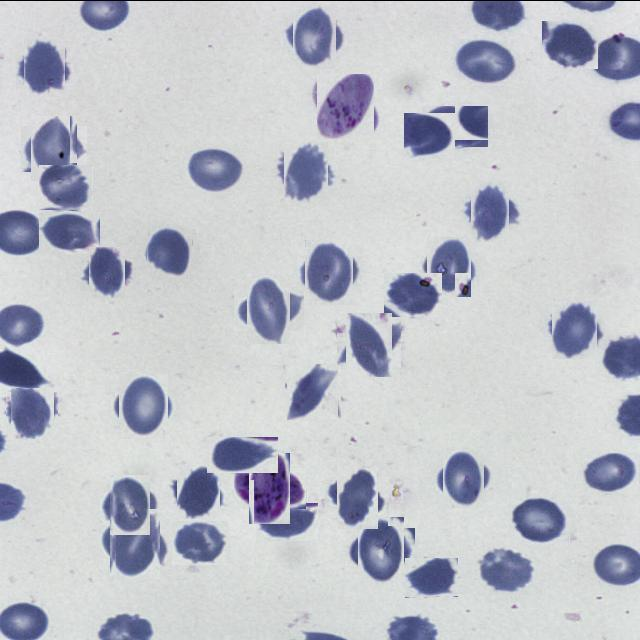difficult: (242, 460, 298, 516)
red blood cell: (104, 513, 165, 573), (115, 376, 172, 434), (352, 521, 409, 579), (301, 243, 358, 300), (240, 280, 298, 336), (26, 120, 82, 176), (453, 38, 519, 85), (341, 316, 397, 371), (288, 9, 342, 63), (286, 364, 340, 418), (510, 496, 570, 544), (184, 146, 245, 193), (422, 105, 489, 147), (542, 19, 598, 68), (549, 303, 601, 355), (280, 146, 332, 198), (422, 240, 474, 292), (331, 470, 383, 522), (104, 478, 156, 529), (478, 546, 535, 592), (39, 211, 100, 253), (207, 436, 278, 472), (384, 272, 442, 316), (466, 186, 516, 236), (439, 453, 489, 503), (20, 42, 70, 92), (39, 164, 93, 210), (172, 520, 228, 564), (145, 227, 194, 276), (174, 467, 223, 516), (255, 502, 318, 540), (583, 452, 640, 494), (404, 112, 455, 157), (8, 389, 56, 436), (405, 556, 459, 596), (85, 250, 129, 294)
trophozoite: (314, 75, 376, 136)
